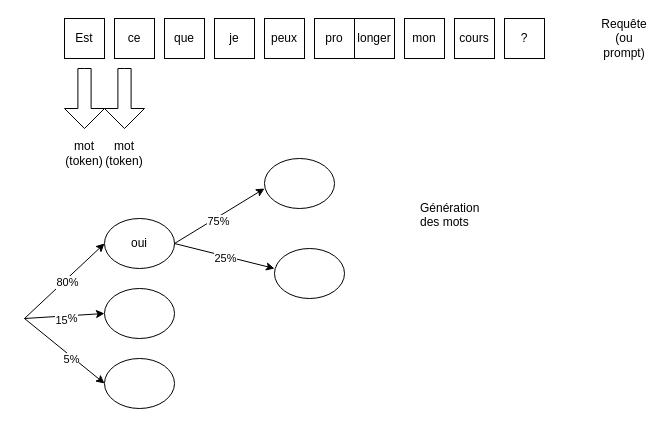
Image size: 672x426. Some labels were removed from this diagram. Each missing label, with the centre of its shape:
et: the point at 299,183
mais: the point at 309,273
non: the point at 139,313
ça: the point at 139,383
